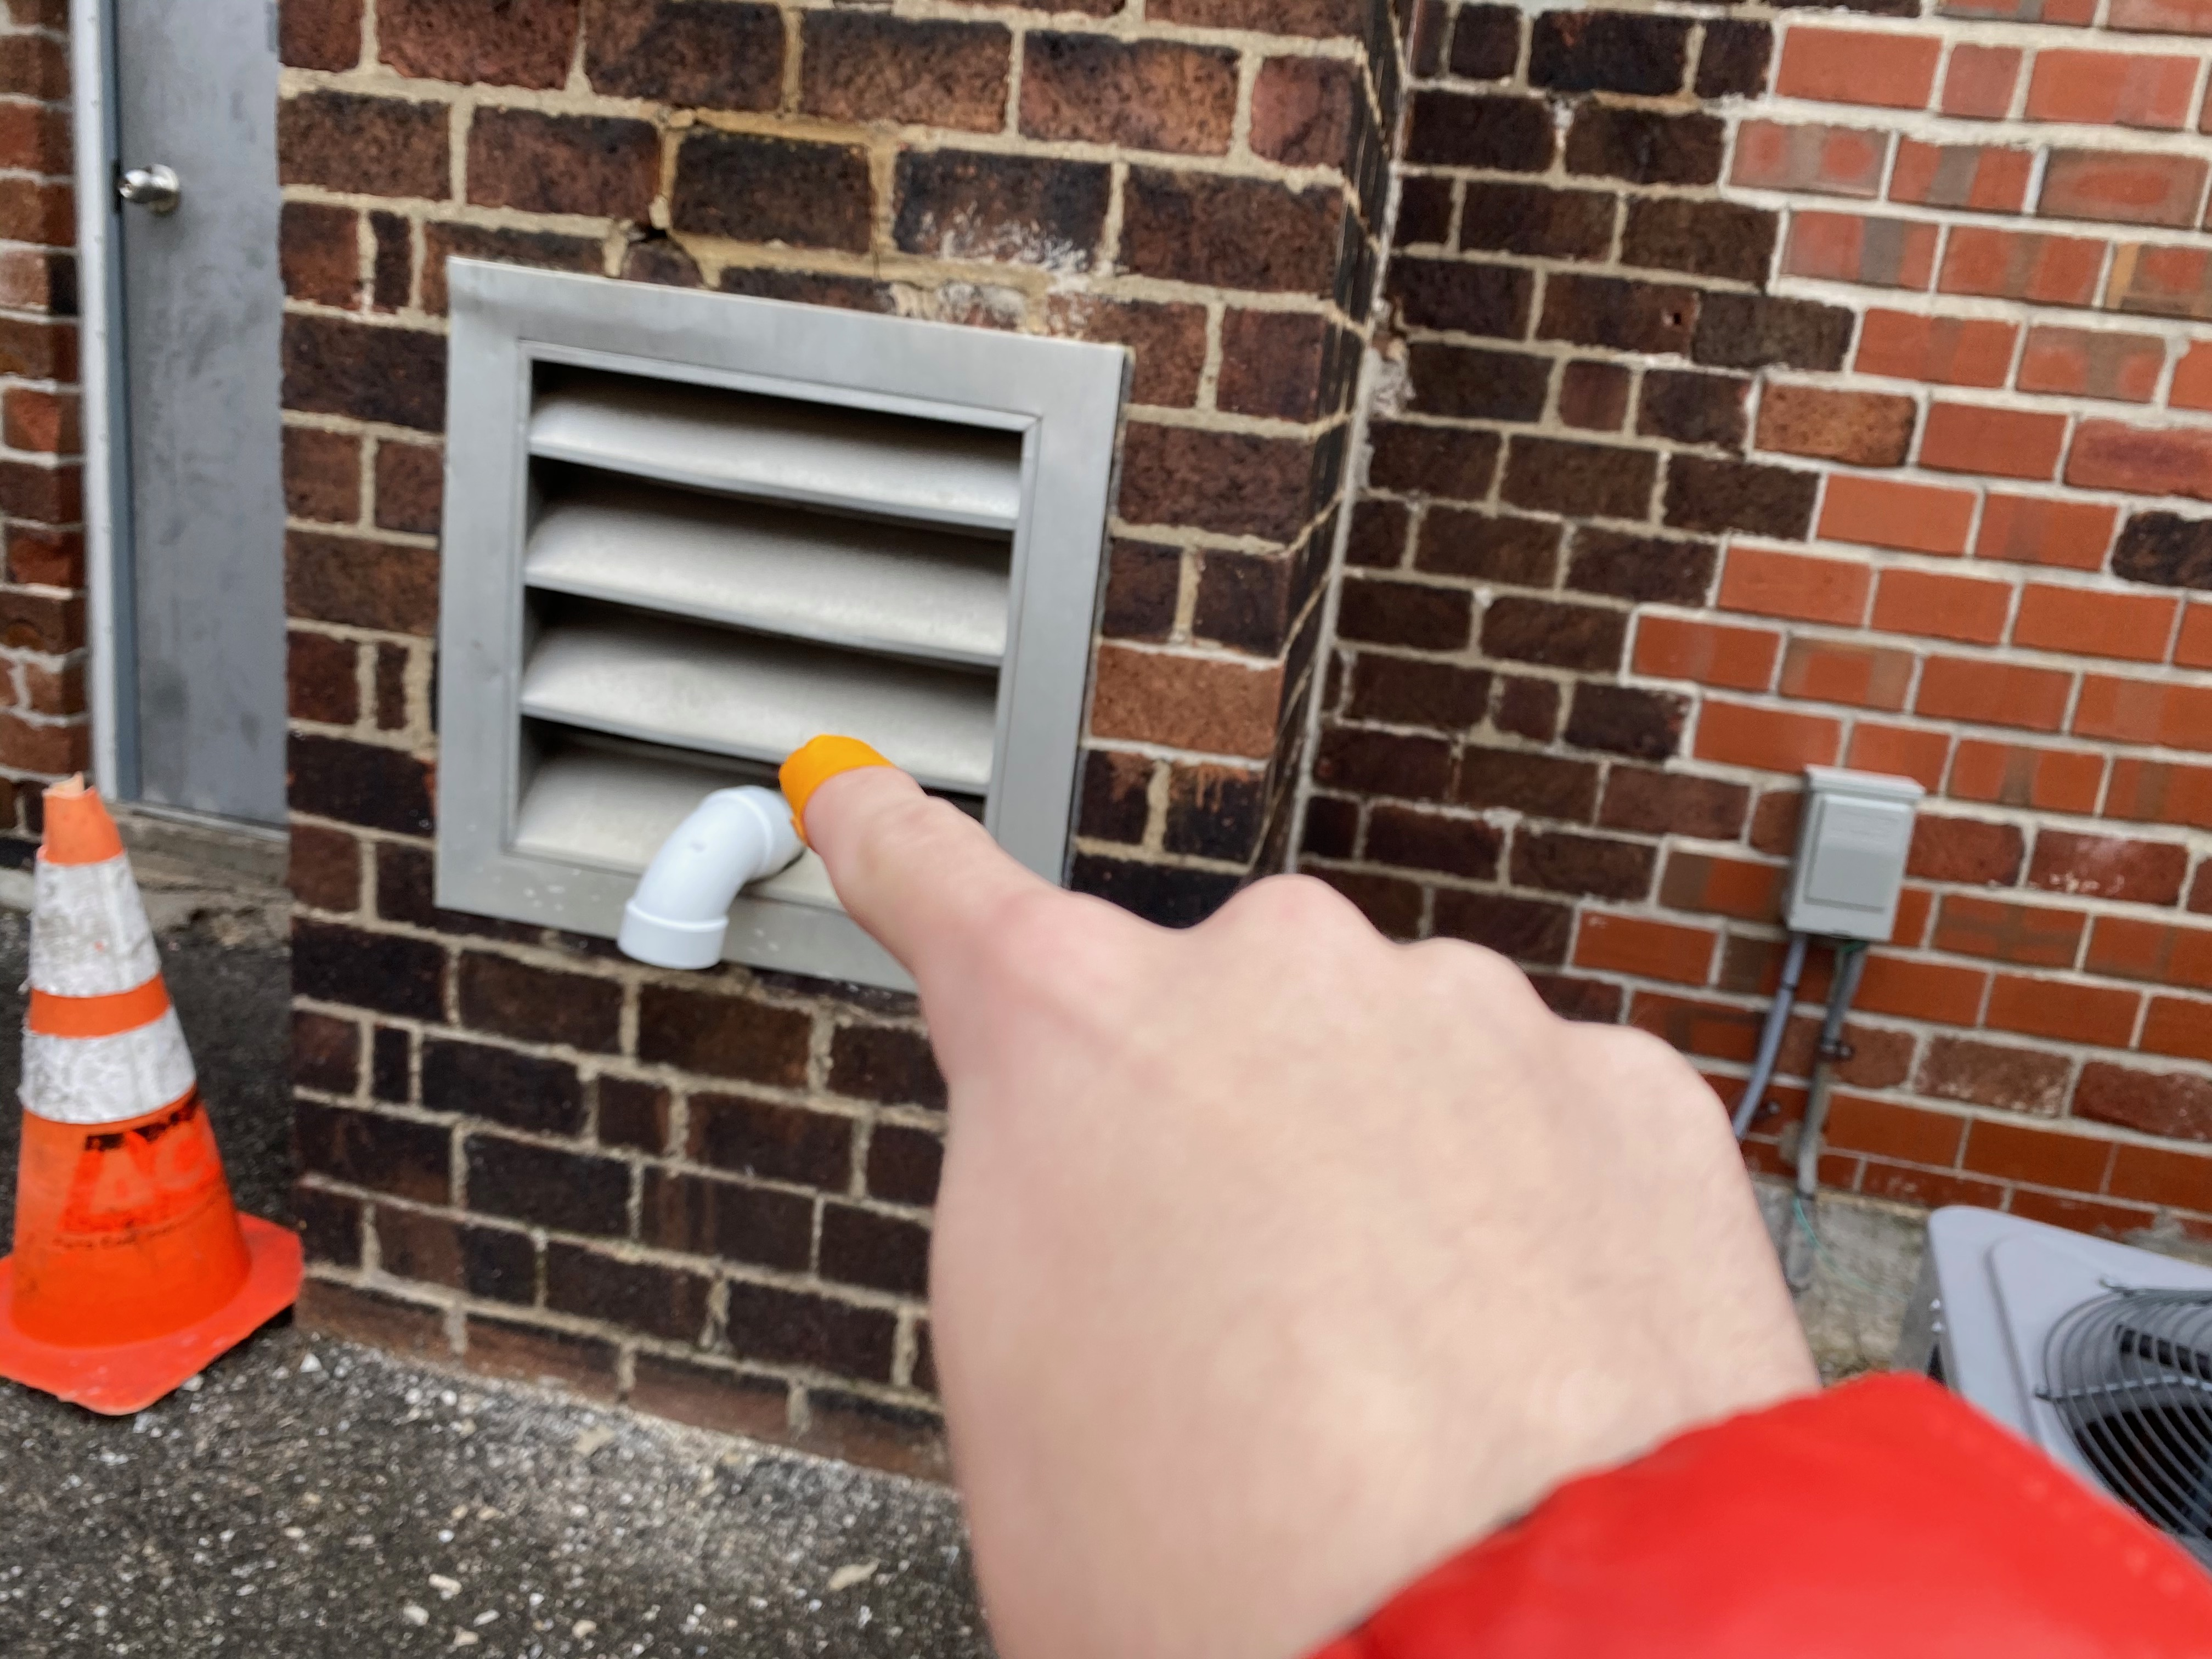fingertip: (759, 711, 954, 861)
